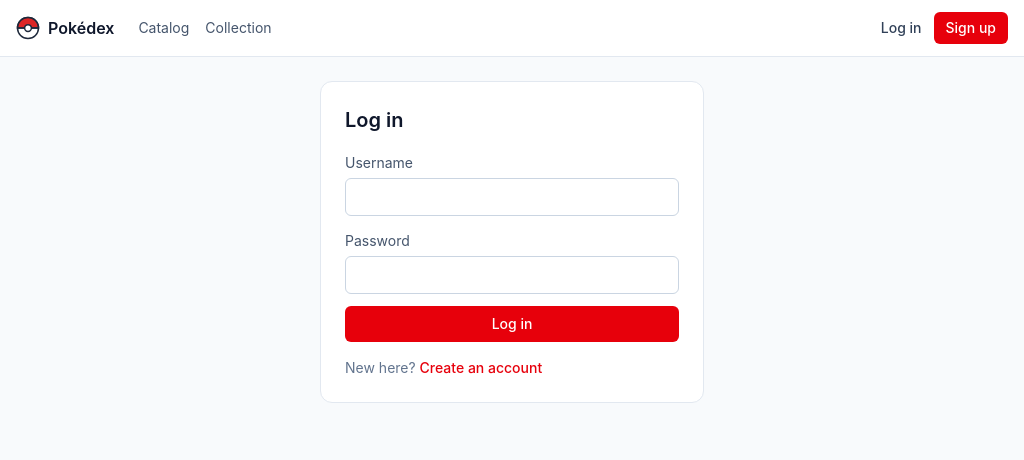
authentication › asks for both fields before sending anything
Click the button "Log in". click: (512, 324)
box: 345,306 -> 679,342
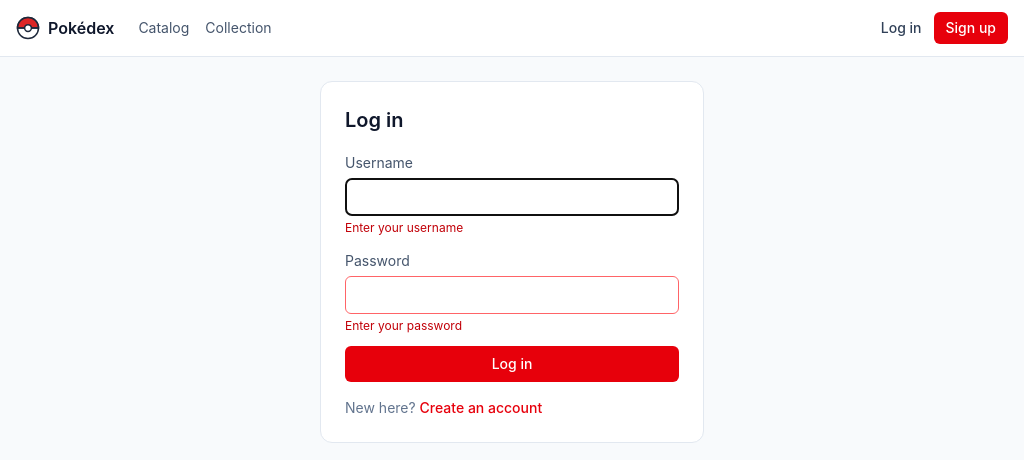
Now the text "Enter your username" is shown, box 345,220 -> 463,235
Now the text "Enter your password" is shown, box 345,318 -> 462,333
